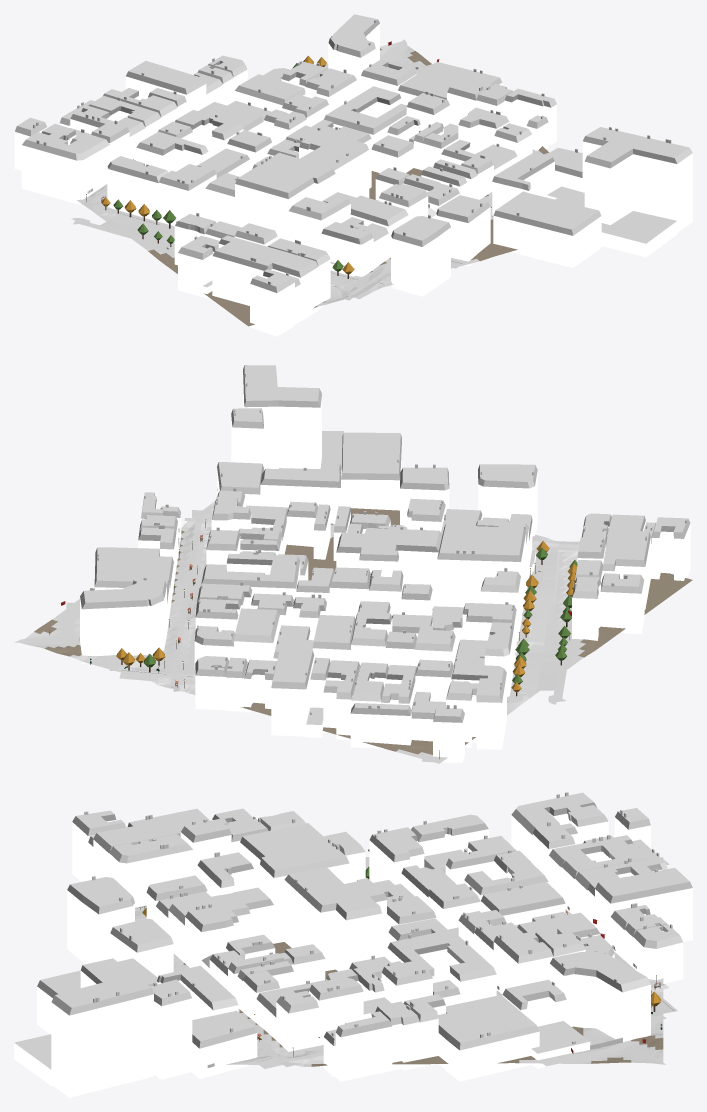
File: zone_D4.glb
3 renders of one model, top to bottom at view 1: azimuth 30°, elevation 25°; view 2: azimuth 150°, elevation 25°; view 3: azimuth 270°, elevation 25°, orthographic. The views are drawn at different scales.
Parts seen in each view (by area): view 1: zone_D4_batiments, zone_D4_terrain, zone_D4_sol_NOCOL, zone_D4_decor_NOCOL; view 2: zone_D4_batiments, zone_D4_terrain, zone_D4_sol_NOCOL, zone_D4_decor_NOCOL; view 3: zone_D4_batiments, zone_D4_terrain, zone_D4_sol_NOCOL.
Boxes of the visible parts, x1=… form: zone_D4_batiments: x1=14, y1=14, x2=692, y2=336; zone_D4_terrain: x1=14, y1=41, x2=549, y2=326; zone_D4_sol_NOCOL: x1=71, y1=39, x2=492, y2=300; zone_D4_decor_NOCOL: x1=86, y1=55, x2=491, y2=287; zone_D4_batiments: x1=79, y1=365, x2=690, y2=762; zone_D4_terrain: x1=20, y1=501, x2=692, y2=763; zone_D4_sol_NOCOL: x1=14, y1=510, x2=579, y2=762; zone_D4_decor_NOCOL: x1=90, y1=519, x2=577, y2=758; zone_D4_batiments: x1=14, y1=792, x2=692, y2=1097; zone_D4_terrain: x1=135, y1=857, x2=663, y2=1066; zone_D4_sol_NOCOL: x1=135, y1=859, x2=677, y2=1068.
Bounding box in the file's own units: 238 × 45.38 × 255.
